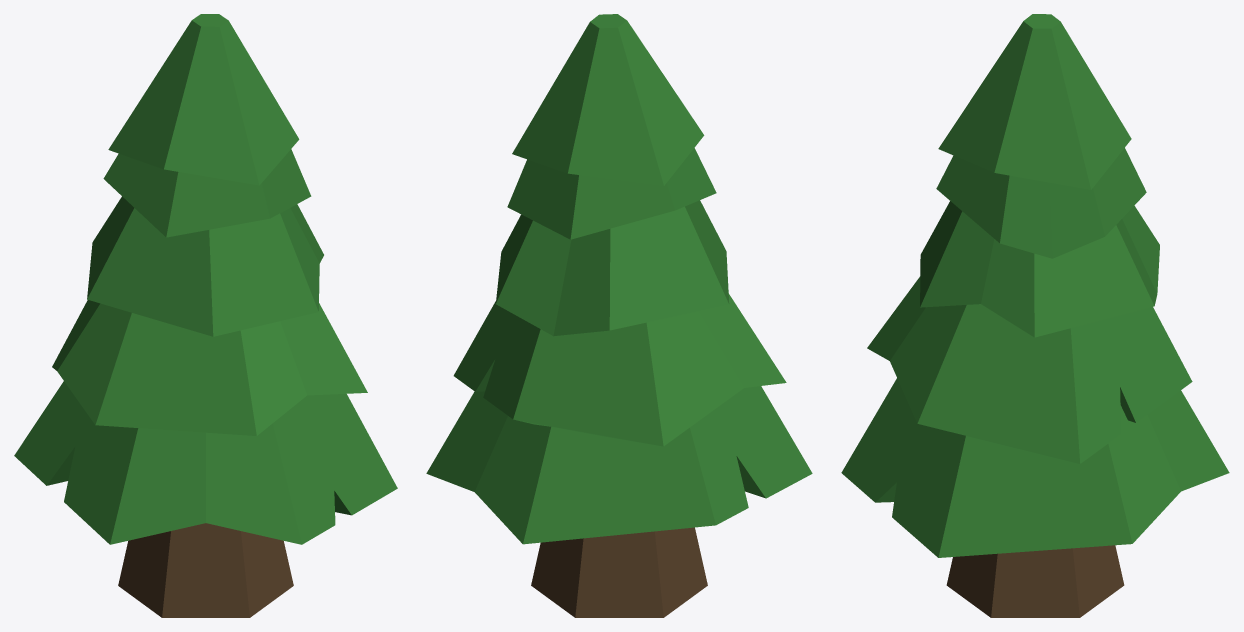
File: Pine_tree.fbx
3 renders of one model, left to right at view 1: azimuth 30°, elevation 25°; view 2: azimuth 150°, elevation 25°; view 3: azimuth 270°, elevation 25°, orthographic.
Parts seen in each view (by area): view 1: Cylinder; view 2: Cylinder; view 3: Cylinder.
Part boxes in pixels (box(x1,y1,x2,y2)): Cylinder: box(14, 14, 397, 617); Cylinder: box(426, 14, 812, 617); Cylinder: box(841, 14, 1229, 617).
Size of the model in its own units: 378 by 705 by 437.
